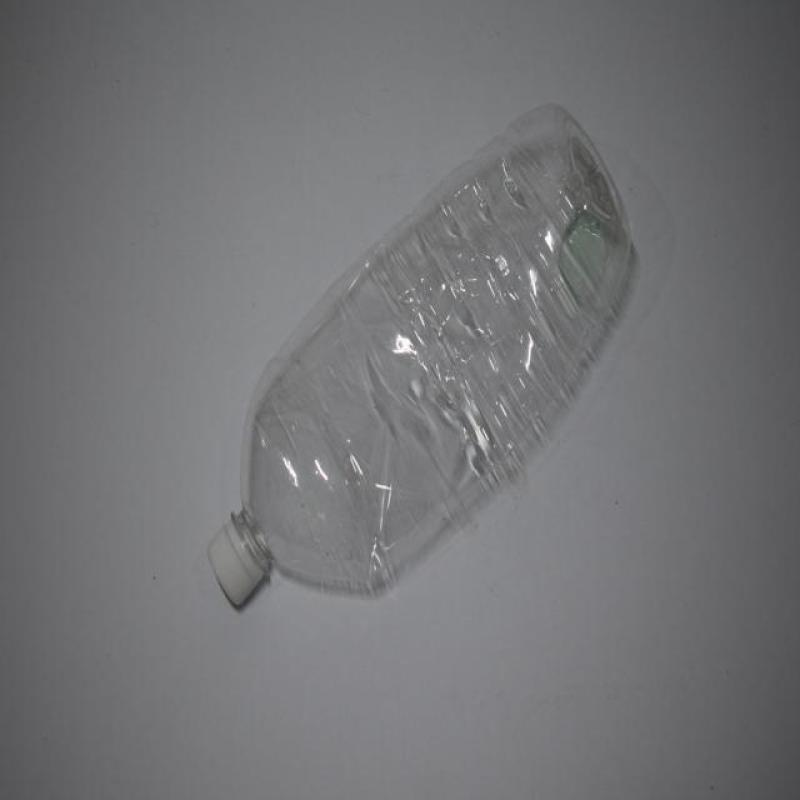botella: (201, 99, 634, 610)
